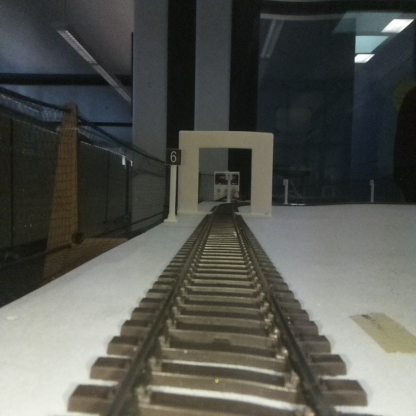black-info-6: (165, 148, 181, 221)
